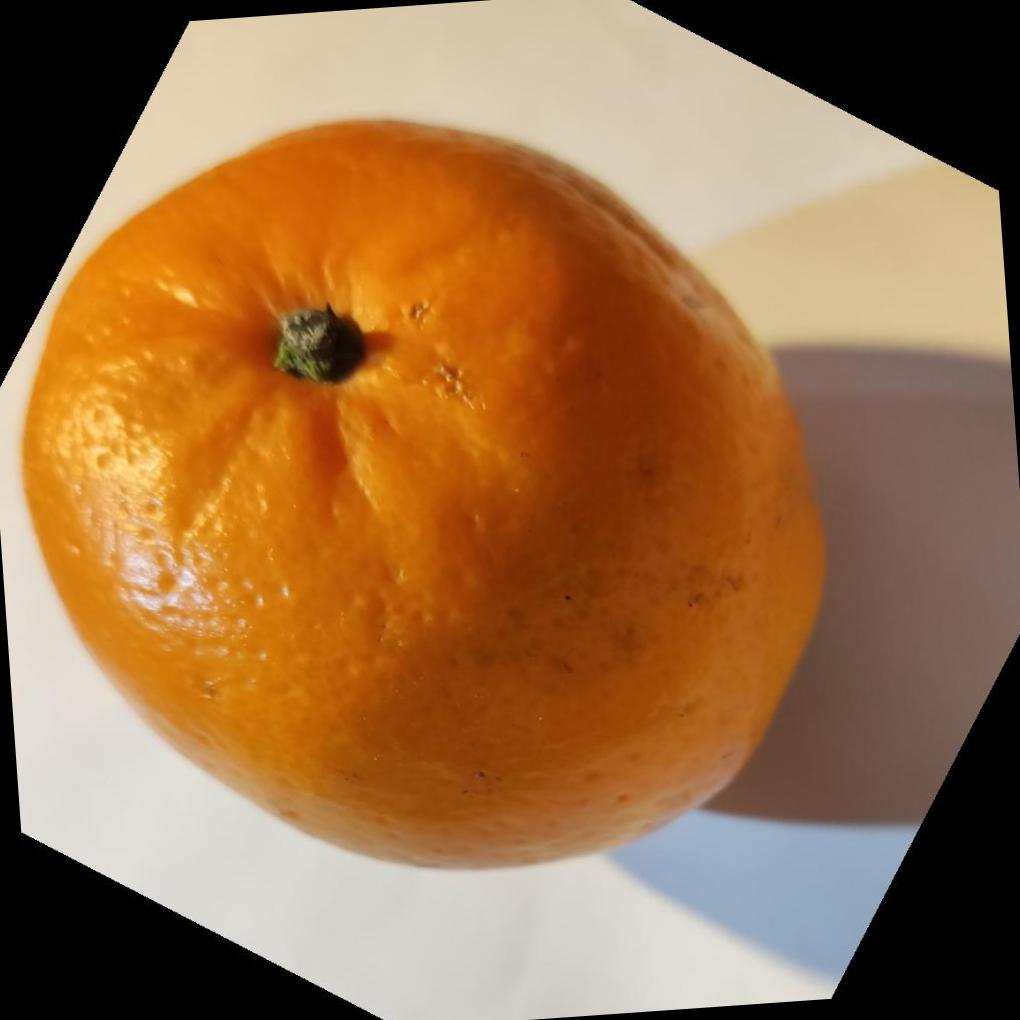FreshGuava: (17, 118, 830, 877)
